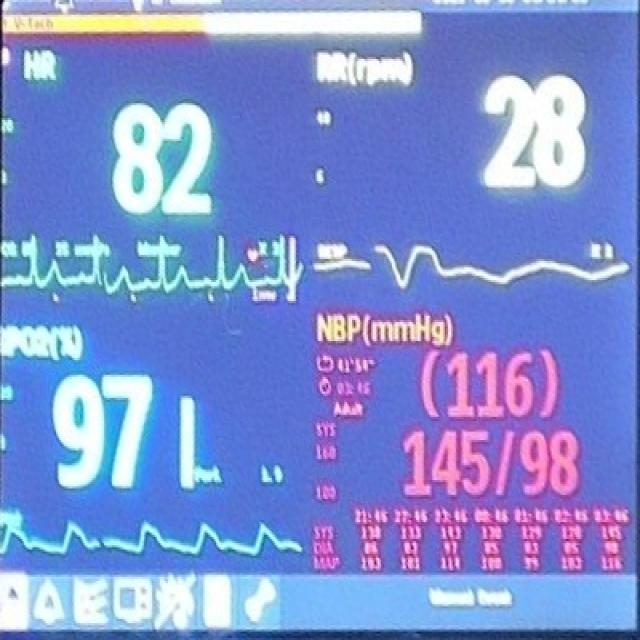frame: (397, 424, 591, 504), (108, 93, 220, 221), (48, 369, 157, 499), (477, 73, 590, 198), (443, 344, 537, 426)
